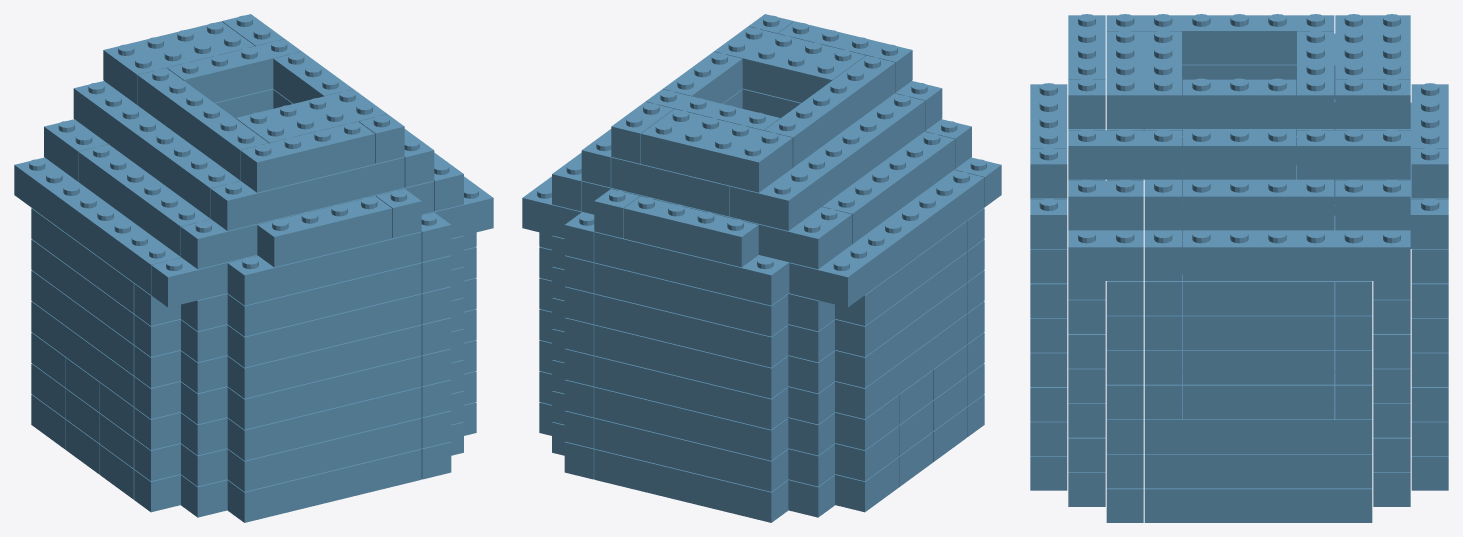
Rendered from 047_birdhouse_L2.glb.
The picture shows the model from 3 angles, left to right: view 1: azimuth 30°, elevation 25°; view 2: azimuth 150°, elevation 25°; view 3: azimuth 270°, elevation 25°; orthographic projection. The views are drawn at different scales.
Bounding box in the file's own units: 10.98 × 11.13 × 10.98.
